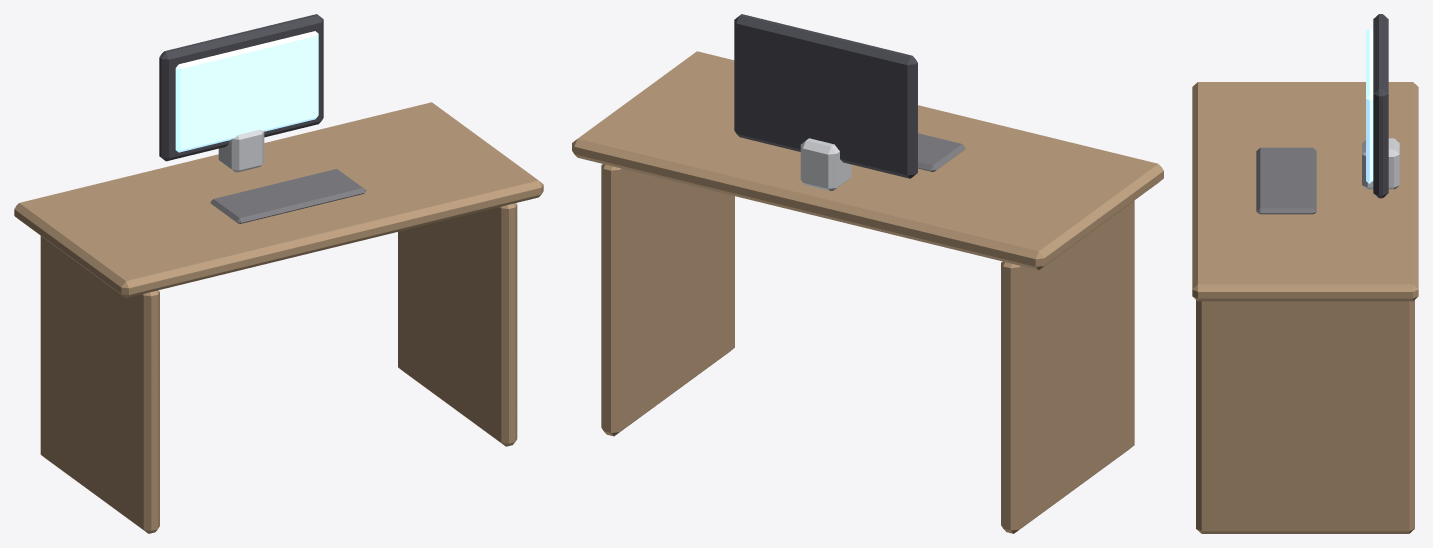
File: th_schreibtisch.glb
The picture shows the model from 3 angles, left to right: view 1: azimuth 30°, elevation 25°; view 2: azimuth 150°, elevation 25°; view 3: azimuth 270°, elevation 25°; orthographic projection. The views are drawn at different scales.
Parts seen in each view (by area): view 1: schreibtisch; view 2: schreibtisch; view 3: schreibtisch.
Boxes of the visible parts, x1=… form: schreibtisch: x1=14, y1=14, x2=543, y2=533; schreibtisch: x1=572, y1=14, x2=1163, y2=533; schreibtisch: x1=1192, y1=14, x2=1418, y2=533.
Size of the model in its own units: 1.3 by 1.15 by 0.6.
